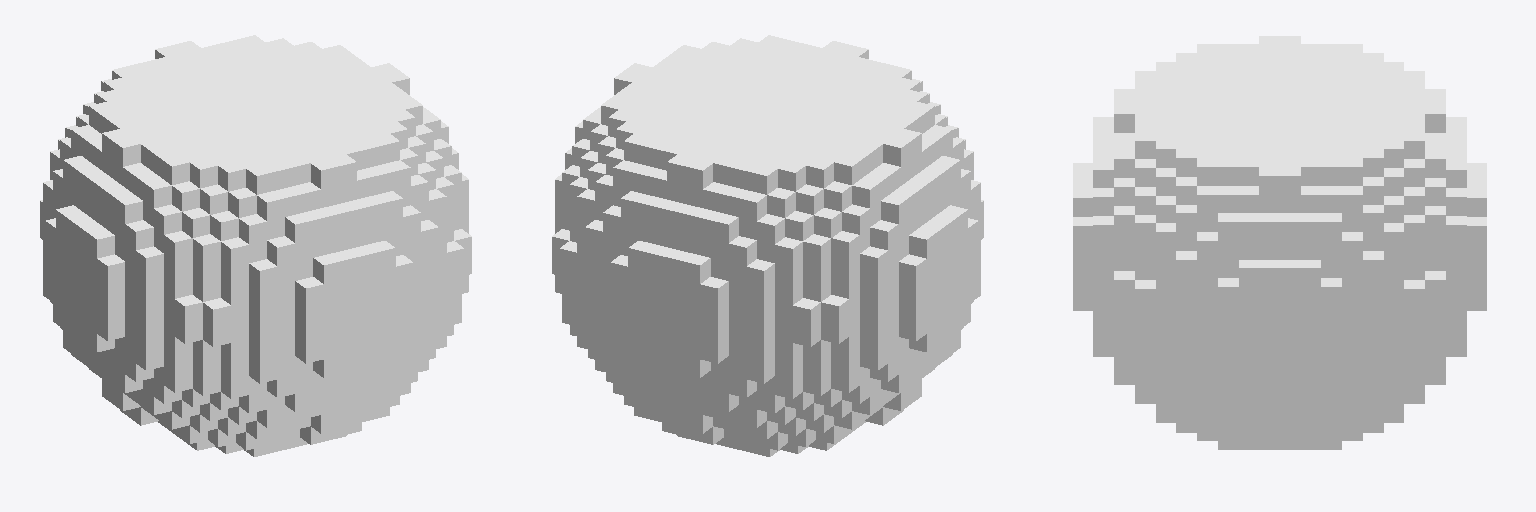
File: teapot_4.obj
The picture shows the model from 3 angles: view 1: azimuth 30°, elevation 25°; view 2: azimuth 150°, elevation 25°; view 3: azimuth 270°, elevation 25°; orthographic projection.
Visible parts, largest first — view 1: object 1; view 2: object 1; view 3: object 1.
Boxes of the visible parts, box(x1,y1,x2,y2) form: object 1: box(40, 35, 471, 456); object 1: box(552, 35, 983, 456); object 1: box(1073, 36, 1486, 449).
Bounding box in the file's own units: 2 × 1.6 × 2.